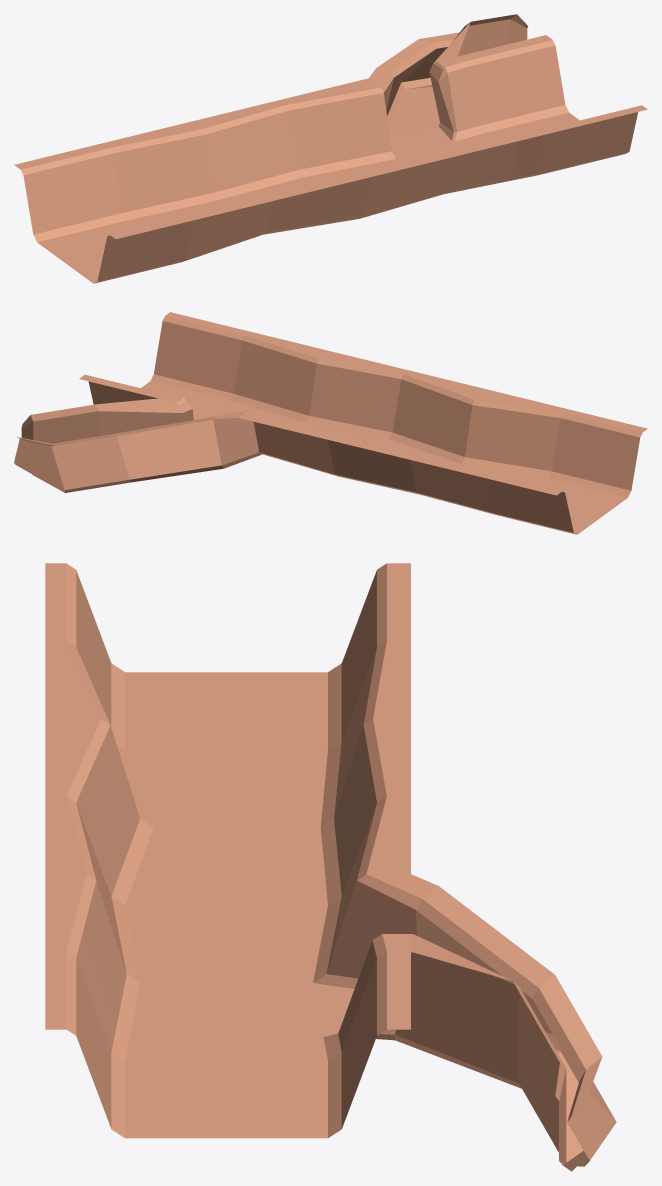
Rendered from Canyon02.fbx.
The picture shows the model from 3 angles, top to bottom: view 1: azimuth 30°, elevation 25°; view 2: azimuth 150°, elevation 25°; view 3: azimuth 270°, elevation 25°; orthographic projection. The views are drawn at different scales.
Parts seen in each view (by area): view 1: Canyon02; view 2: Canyon02; view 3: Canyon02.
Part boxes in pixels (<box>): Canyon02: <box>14,14,647,283</box>; Canyon02: <box>14,312,647,534</box>; Canyon02: <box>45,563,616,1171</box>.
Bounding box in the file's own units: 22231 × 3112 × 11049.
